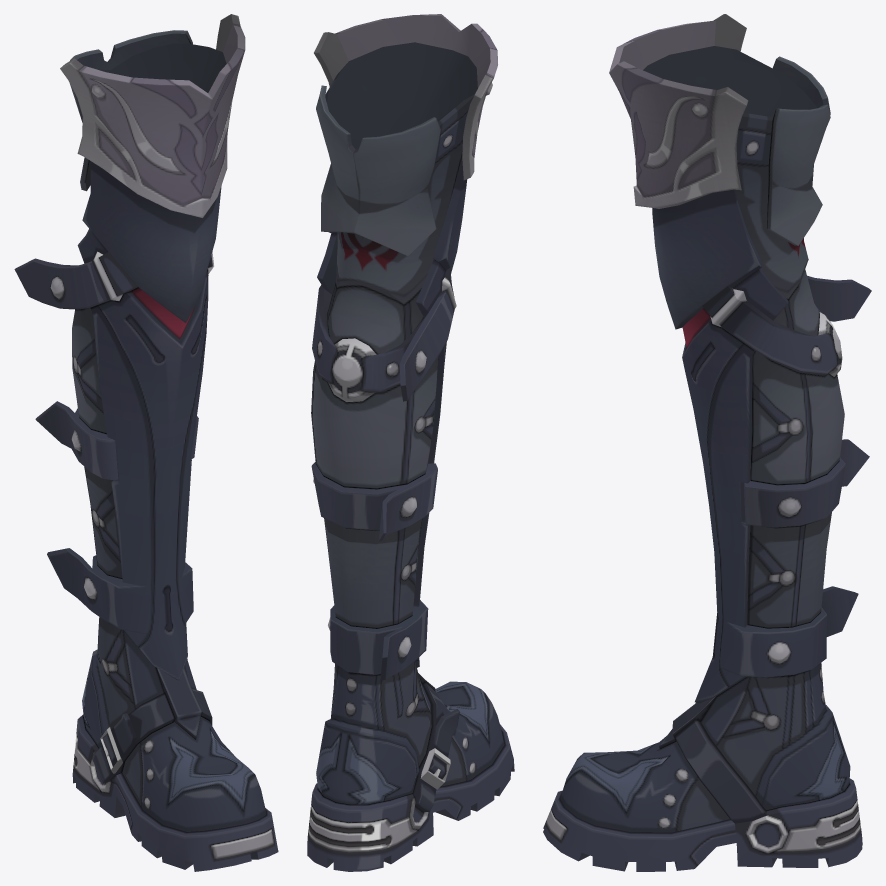
File: W_Boot_R.glb
3 views of the same model, side by side, from view 1: azimuth 30°, elevation 25°; view 2: azimuth 150°, elevation 25°; view 3: azimuth 270°, elevation 25° (orthographic). The views are drawn at different scales.
Parts seen in each view (by area): view 1: W_Boot_R; view 2: W_Boot_R; view 3: W_Boot_R.
Boxes of the visible parts, left/top/right/bottom form: W_Boot_R: left=14, top=14, right=278, bottom=871; W_Boot_R: left=307, top=14, right=514, bottom=871; W_Boot_R: left=543, top=14, right=871, bottom=871.
Size of the model in its own units: 0.1879 by 0.8256 by 0.3099.
Materials: 1 (1 with a texture image).
